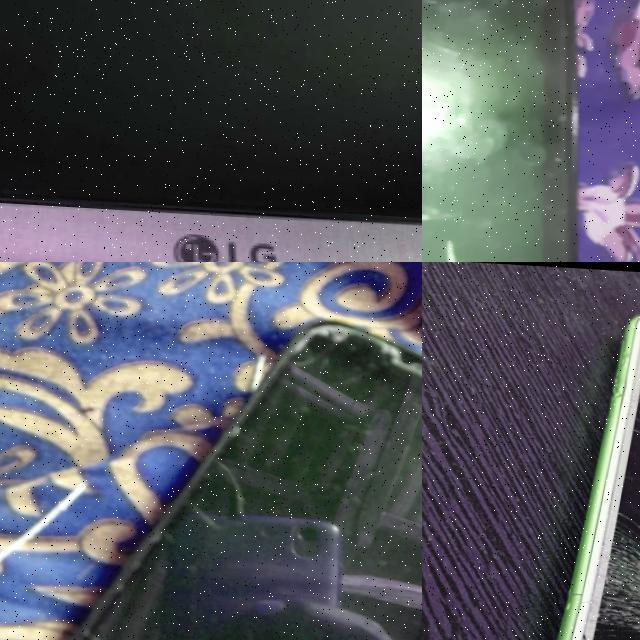screen crack: (544, 317, 640, 640), (268, 297, 422, 479), (422, 99, 541, 262), (57, 575, 312, 640), (143, 438, 266, 552)
